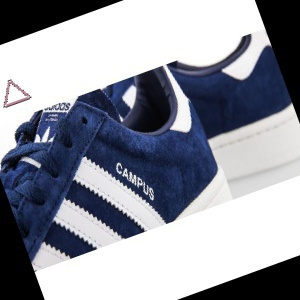triangle: (2, 77, 33, 110)
